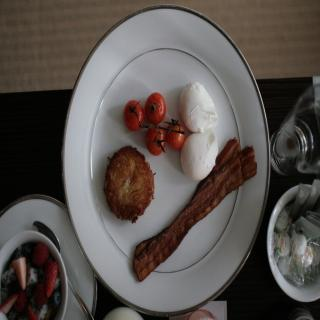tomato: (142, 90, 166, 120), (123, 97, 145, 129), (146, 125, 166, 155), (168, 125, 186, 149)
